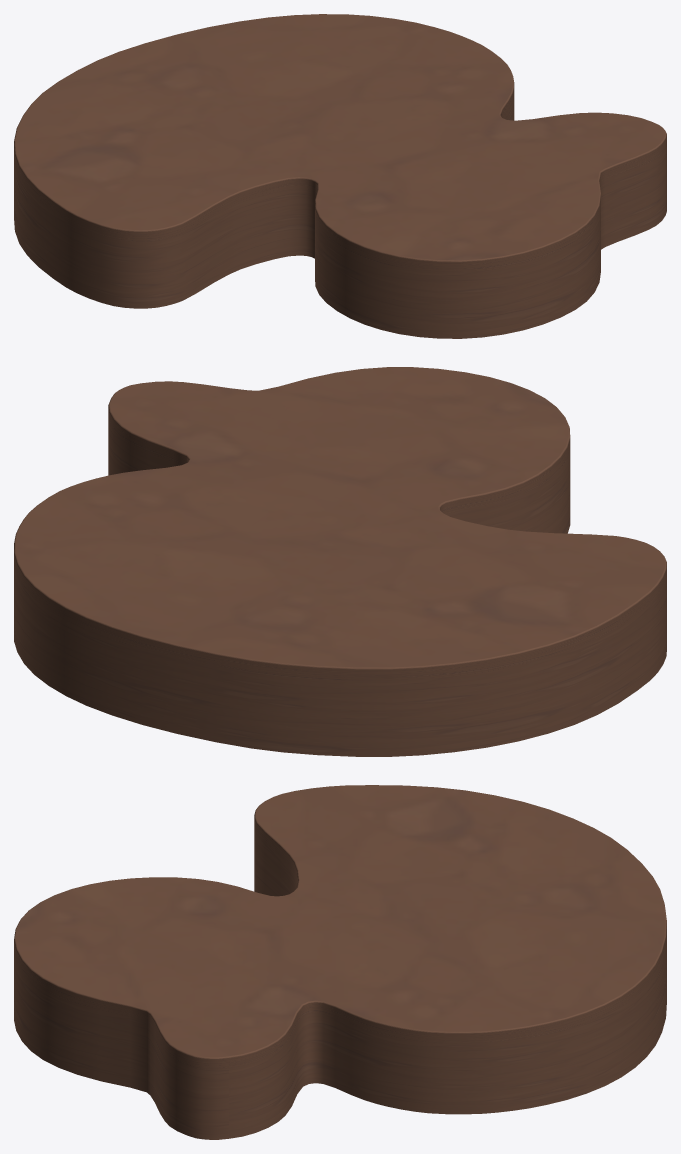
The model's file is duck-island.glb.
The picture shows the model from 3 angles, top to bottom: view 1: azimuth 30°, elevation 25°; view 2: azimuth 150°, elevation 25°; view 3: azimuth 270°, elevation 25°; orthographic projection. The views are drawn at different scales.
Visible parts, largest first — view 1: geometry_0; view 2: geometry_0; view 3: geometry_0.
Boxes of the visible parts, x1,y1,x2,y2 form: geometry_0: (14, 14, 666, 338); geometry_0: (14, 367, 666, 756); geometry_0: (14, 785, 666, 1139).
Bounding box in the file's own units: 42.93 × 6 × 43.33.
1 material, 1 textured.
